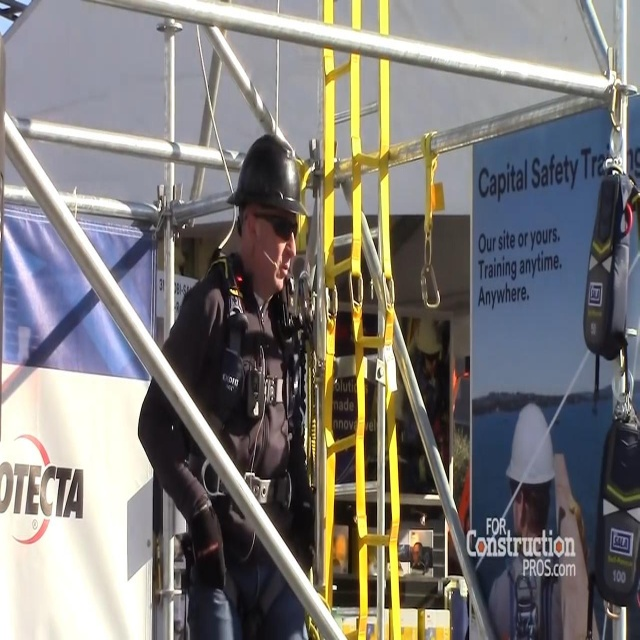Arnes_seguridad: (181, 237, 309, 619)
